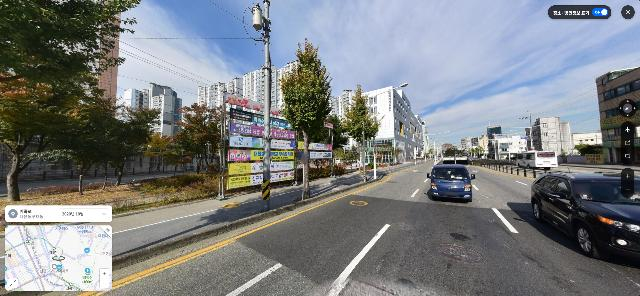ginkgo: (148, 129, 171, 171)
other: (1, 1, 145, 202), (278, 39, 333, 200), (45, 97, 128, 196), (102, 106, 163, 191), (171, 100, 226, 182), (339, 84, 382, 183), (575, 137, 604, 155), (392, 146, 404, 168), (382, 148, 393, 170)
